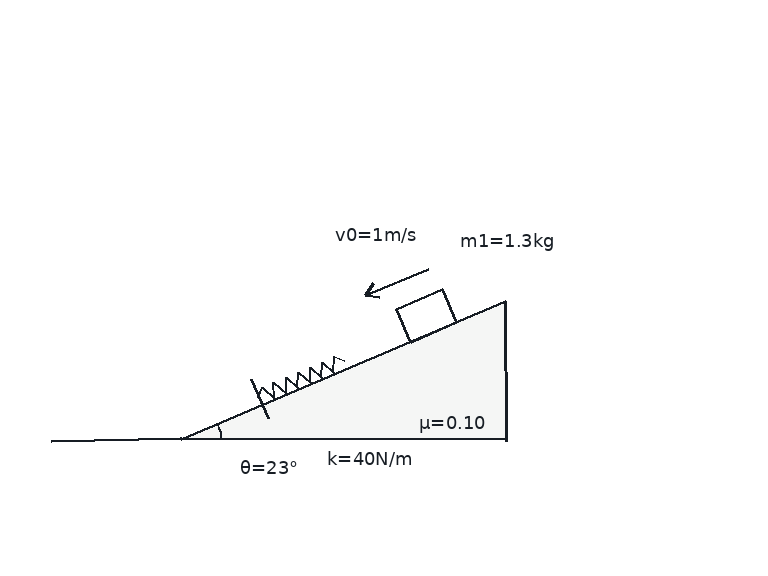block: (395, 288, 457, 344)
ramp: (179, 299, 508, 441)
spring: (257, 354, 345, 400)
